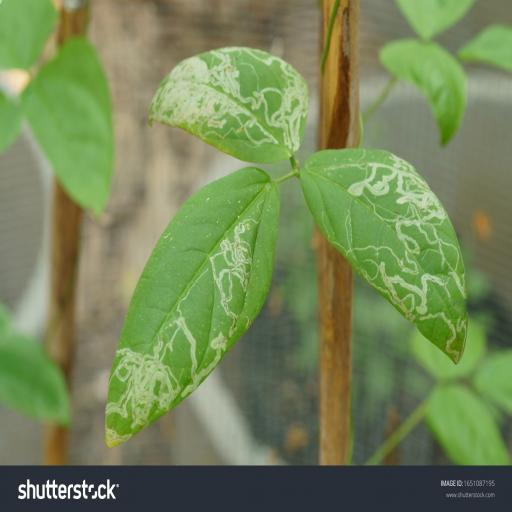Leaf Miner: (102, 165, 280, 452), (297, 145, 468, 365), (144, 45, 308, 163)
